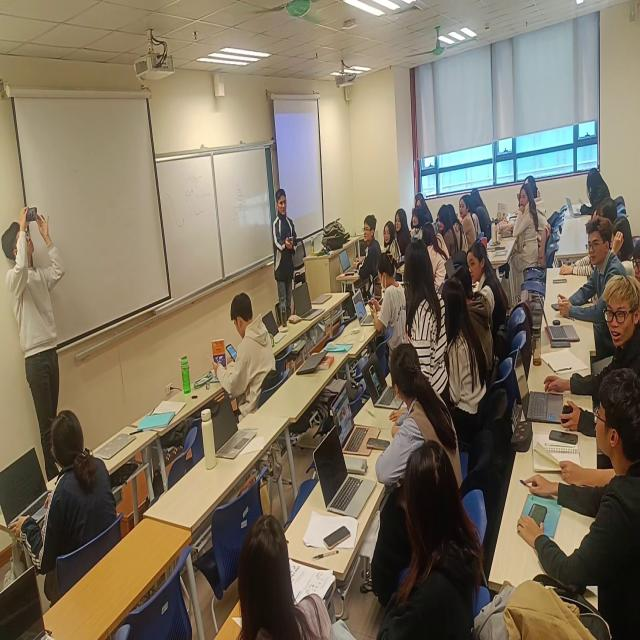raise_head: (555, 359, 640, 620), (385, 436, 480, 640), (234, 507, 335, 640), (384, 338, 459, 473), (568, 216, 626, 331), (361, 210, 385, 283), (419, 193, 434, 225)
stand: (2, 186, 66, 489), (402, 238, 453, 399), (272, 184, 299, 323)
using_computer: (1, 370, 125, 573)
using_phone: (212, 289, 275, 414), (367, 248, 407, 358), (576, 164, 613, 216)
